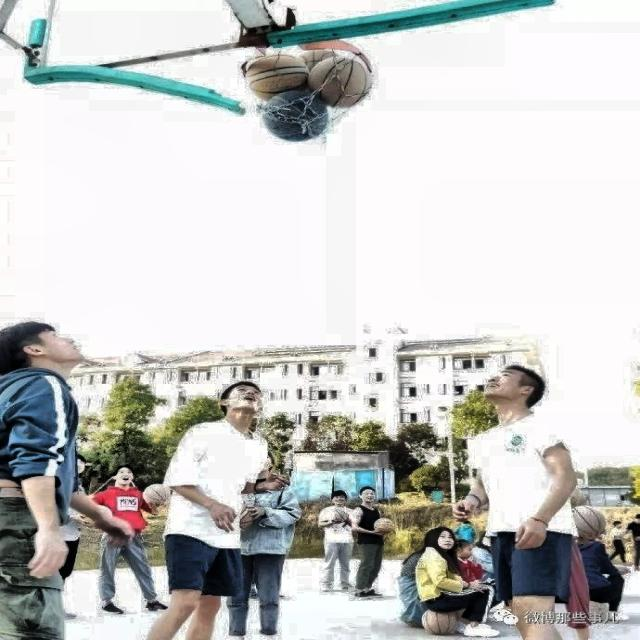board: (262, 88, 328, 142), (307, 56, 368, 108), (245, 54, 309, 96), (571, 505, 606, 538), (421, 609, 456, 634), (142, 483, 170, 506), (372, 518, 394, 534)
